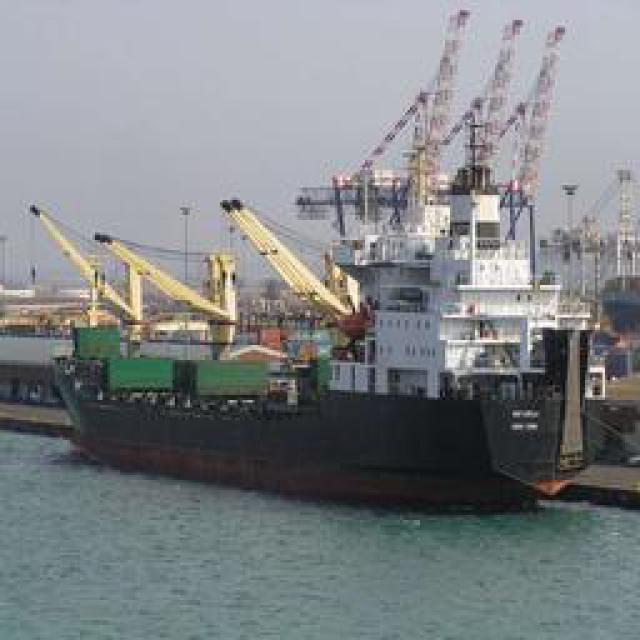Ship: (45, 107, 620, 519)
